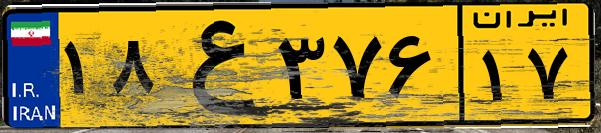1: (57, 26, 110, 100), (475, 38, 525, 113)
3: (270, 28, 330, 110)
6: (385, 28, 445, 110)
7: (330, 28, 385, 110), (525, 38, 570, 115)
8: (110, 28, 158, 98)
ع: (158, 12, 270, 120)
